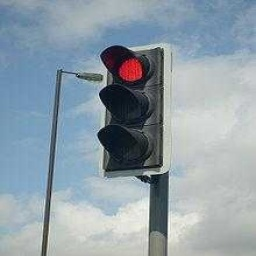traffic light: (95, 42, 172, 178)
